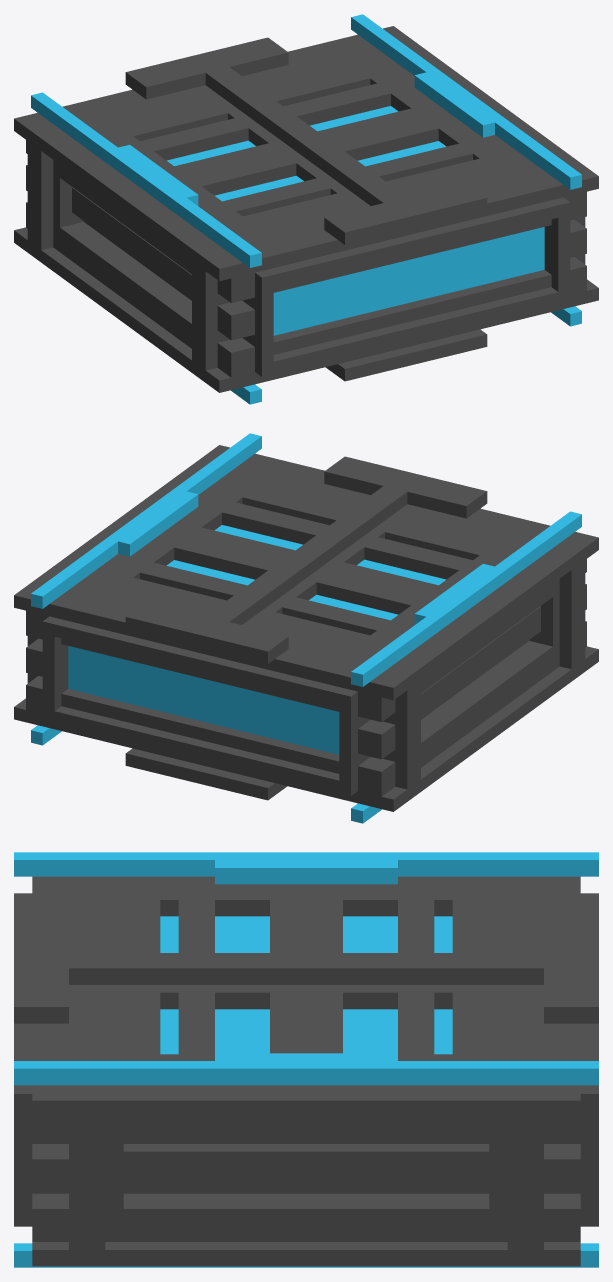
File: alien_saucer1c.fbx
3 renders of one model, top to bottom at view 1: azimuth 30°, elevation 25°; view 2: azimuth 150°, elevation 25°; view 3: azimuth 270°, elevation 25°, orthographic. The views are drawn at different scales.
Parts seen in each view (by area): view 1: alien_saucer1c; view 2: alien_saucer1c; view 3: alien_saucer1c.
Boxes of the visible parts, x1,y1,x2,y2 form: alien_saucer1c: (14,14,598,404); alien_saucer1c: (14,433,598,823); alien_saucer1c: (14,852,598,1267).
Bounding box in the file's own units: 3.2 × 3.2 × 1.2.
1 material, 1 textured.
